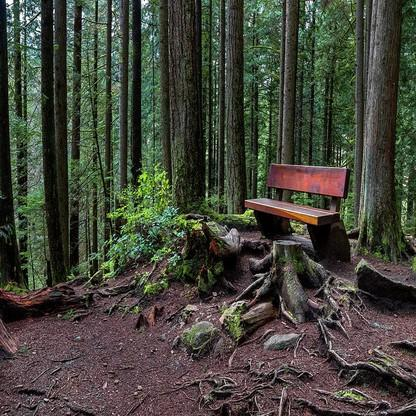obstacle: (236, 152, 356, 268)
